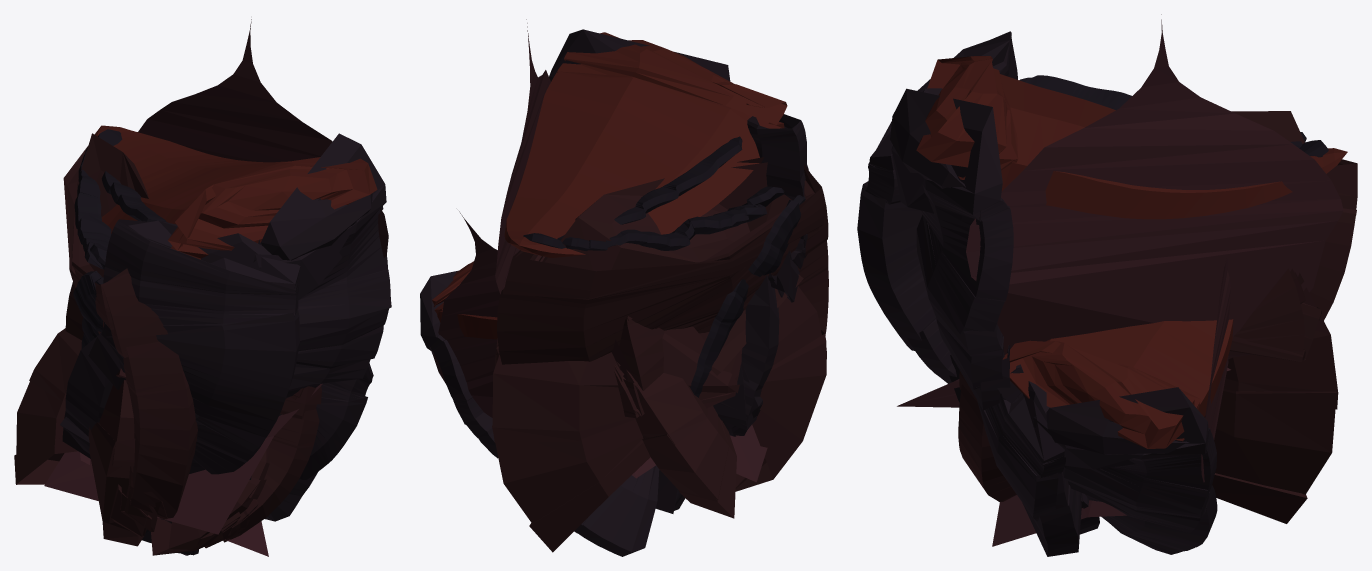
File: Stone_World2_03.fbx
3 views of the same model, side by side, from view 1: azimuth 30°, elevation 25°; view 2: azimuth 150°, elevation 25°; view 3: azimuth 270°, elevation 25° (orthographic). The views are drawn at different scales.
Parts seen in each view (by area): view 1: NewLayer2; view 2: NewLayer2; view 3: NewLayer2.
Boxes of the visible parts, x1=… form: NewLayer2: x1=14, y1=19, x2=391, y2=556; NewLayer2: x1=420, y1=19, x2=828, y2=556; NewLayer2: x1=857, y1=14, x2=1357, y2=556.
Size of the model in its own units: 0.1072 by 0.1598 by 0.1213.
